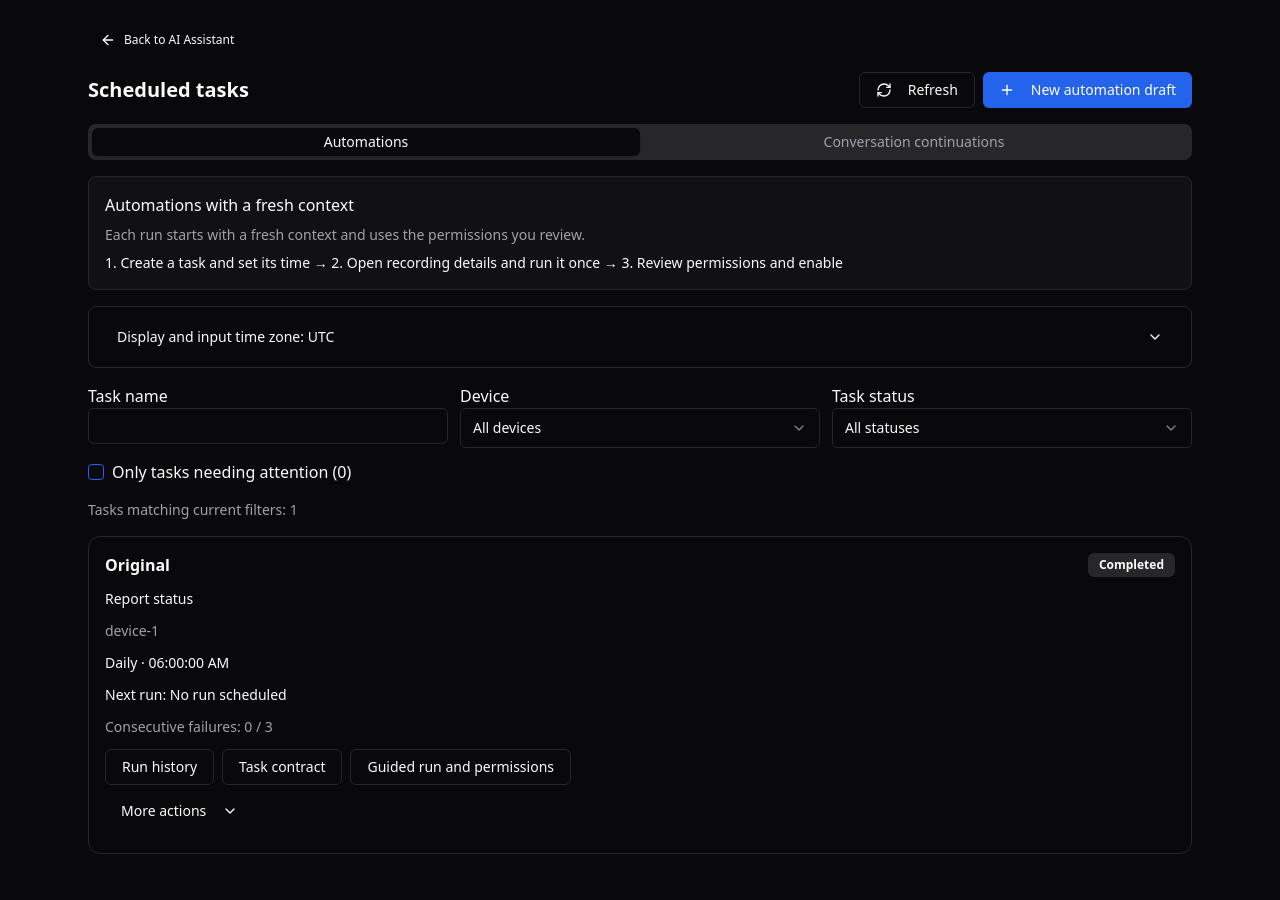
scheduled task management page › keeps history, rename and delete but hides rescheduling for completed fresh_task
Expected: the heading "Original" is shown, [105,553,170,577]
Click the button "More actions".
click(180, 811)  # box [105,793,254,829]
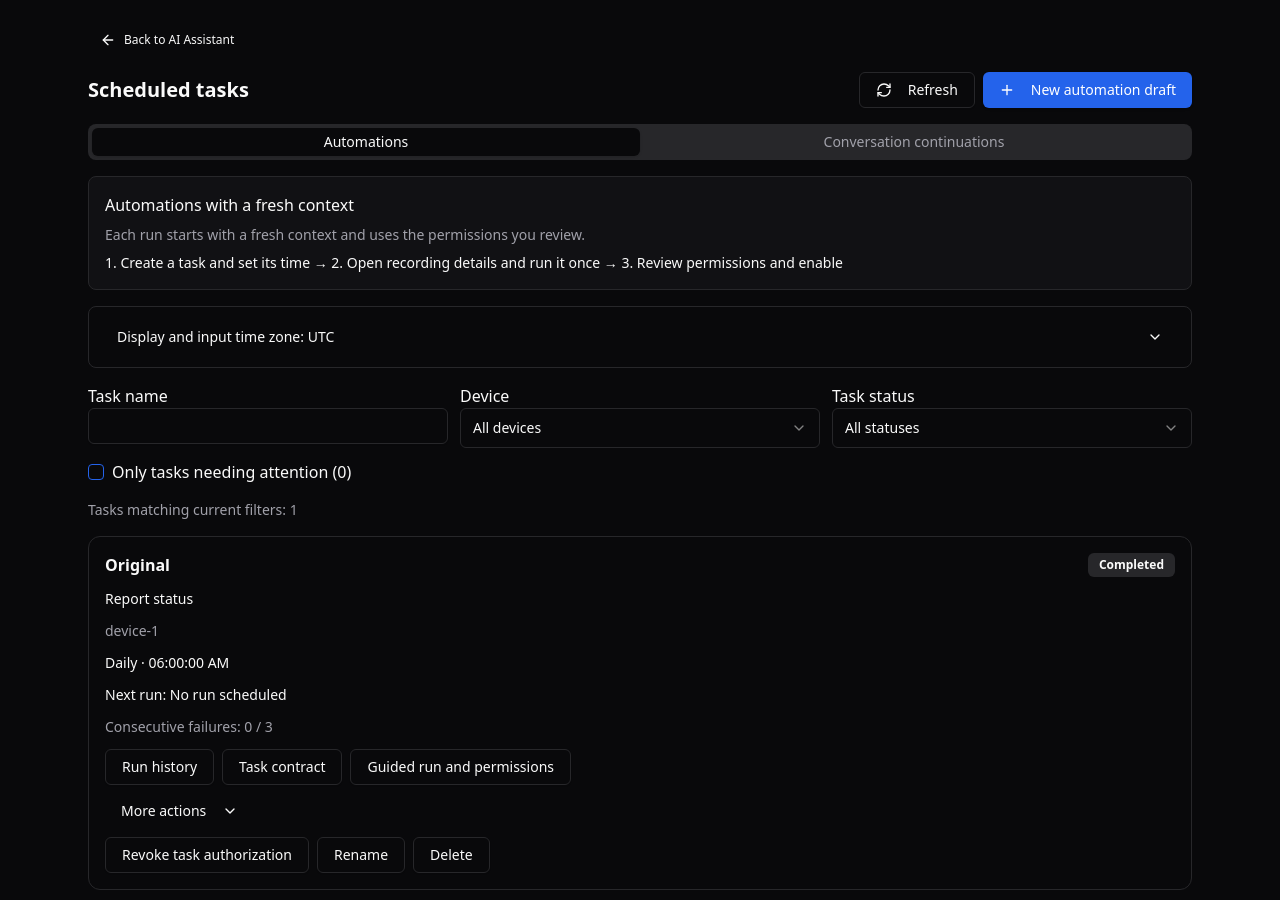
Expected: the button "Run history" is enabled, [105,749,214,785]
Now the button "Rename" is enabled, box [317,837,405,873]
Now the button "Delete" is enabled, box [413,837,490,873]
